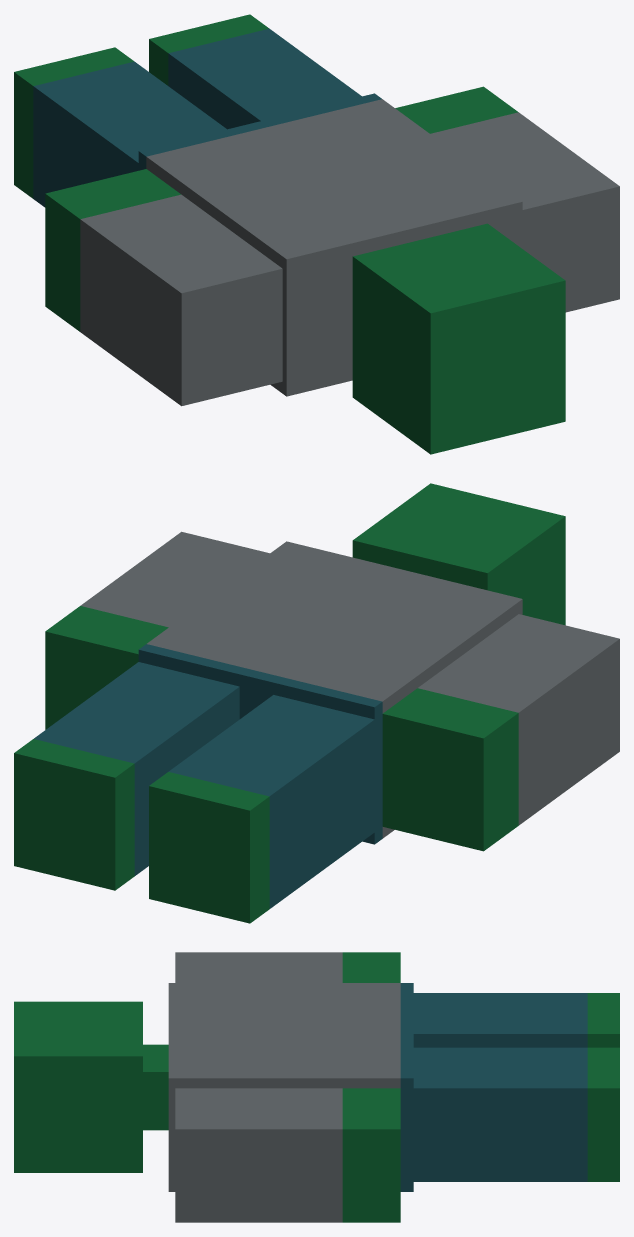
Rendered from tinker.obj.
The picture shows the model from 3 angles, top to bottom: view 1: azimuth 30°, elevation 25°; view 2: azimuth 150°, elevation 25°; view 3: azimuth 270°, elevation 25°; orthographic projection. The views are drawn at different scales.
Visible parts, largest first — view 1: group_0_6383466, group_0_1206582, group_0_1855578; view 2: group_0_1206582, group_0_6383466, group_0_1855578; view 3: group_0_6383466, group_0_1206582, group_0_1855578.
Boxes of the visible parts, x1,y1,x2,y2 form: group_0_6383466: [80, 99, 619, 406]; group_0_1206582: [14, 14, 565, 454]; group_0_1855578: [33, 28, 381, 207]; group_0_1206582: [14, 483, 565, 923]; group_0_6383466: [80, 531, 619, 838]; group_0_1855578: [34, 644, 382, 908]; group_0_6383466: [168, 952, 400, 1222]; group_0_1206582: [14, 952, 619, 1222]; group_0_1855578: [400, 983, 587, 1191].
Bounding box in the file's own units: 65 × 20.12 × 94.
